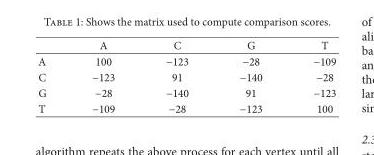table: (37, 37, 335, 115)
table column: (139, 37, 213, 115), (213, 37, 287, 115), (68, 37, 139, 115), (287, 37, 335, 115), (37, 37, 68, 115)
table column header: (37, 37, 335, 52)
table row: (37, 52, 335, 68), (37, 68, 335, 84), (37, 84, 335, 100), (37, 37, 335, 52), (37, 100, 335, 115)
